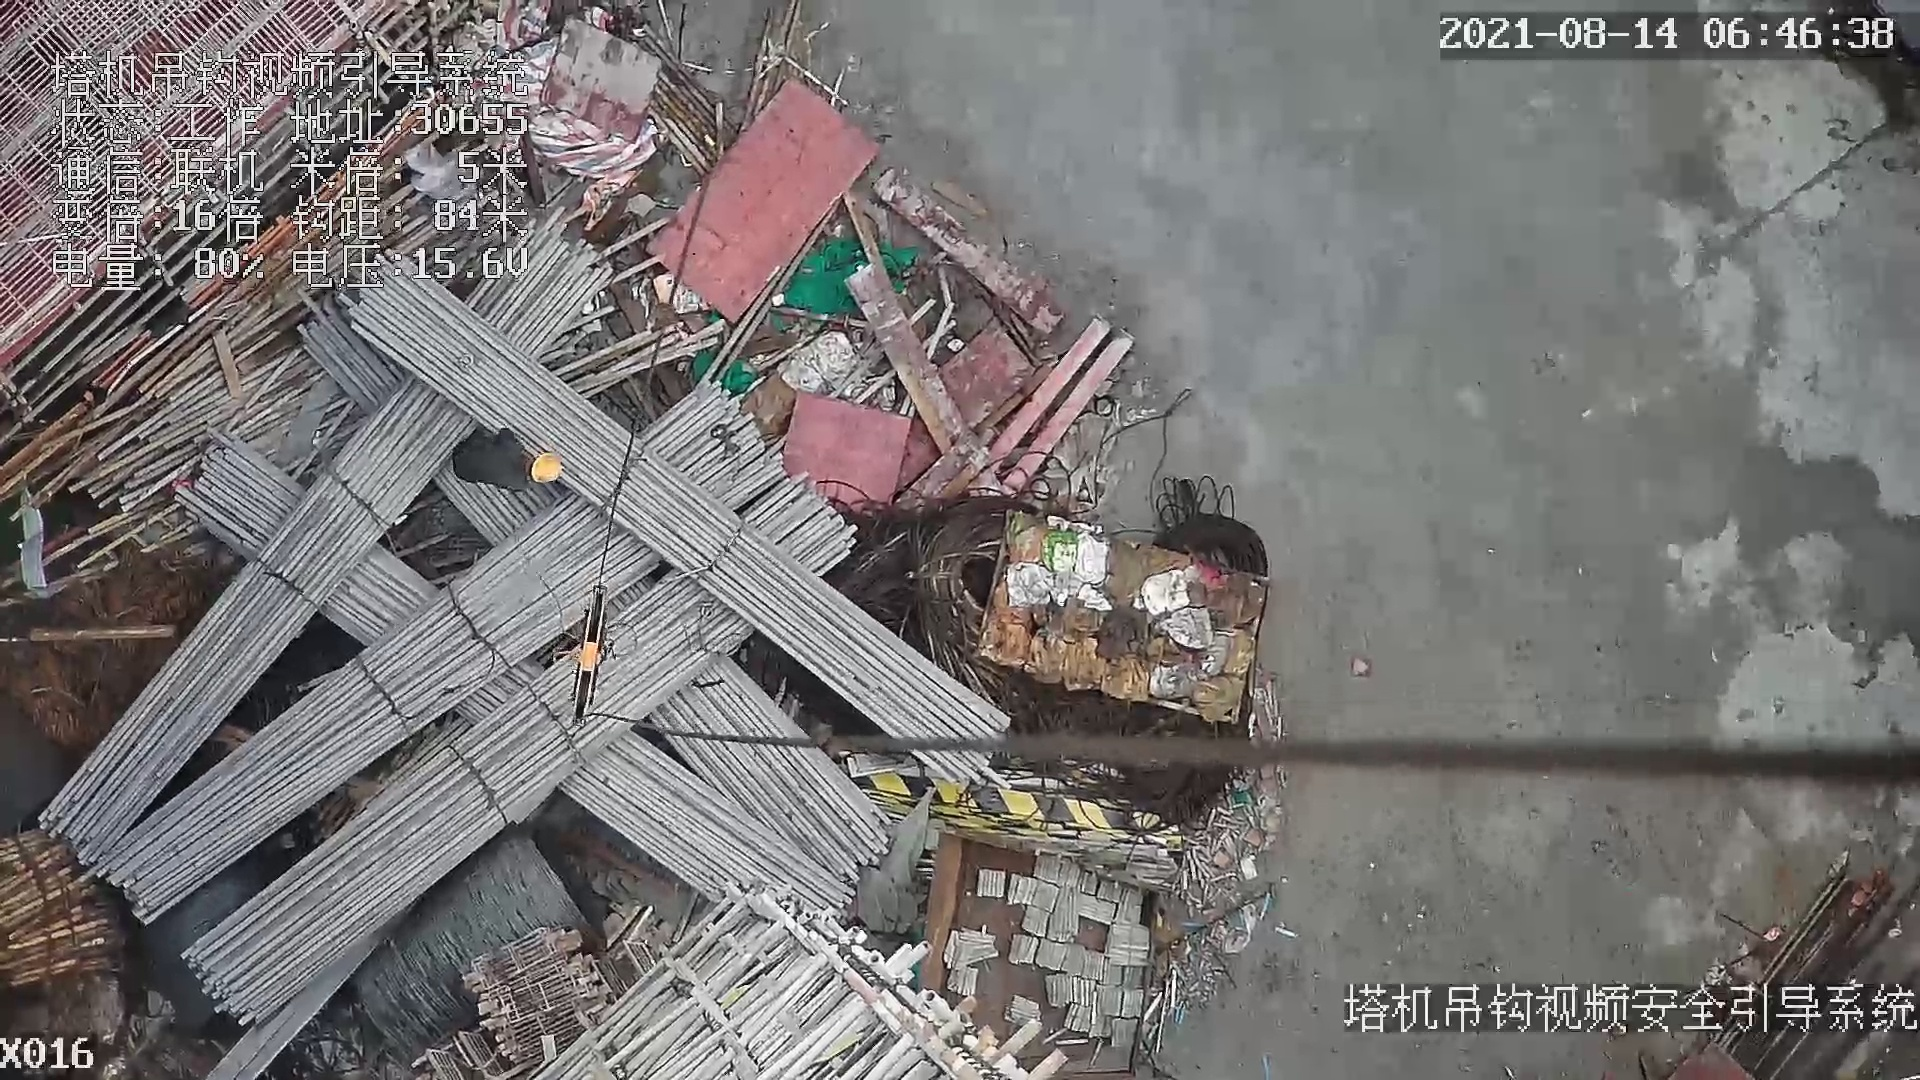board: (645, 87, 866, 330)
helmet: (532, 452, 560, 486)
hook: (550, 580, 617, 732)
person: (444, 419, 563, 500)
scaffold: (1, 834, 123, 972)
